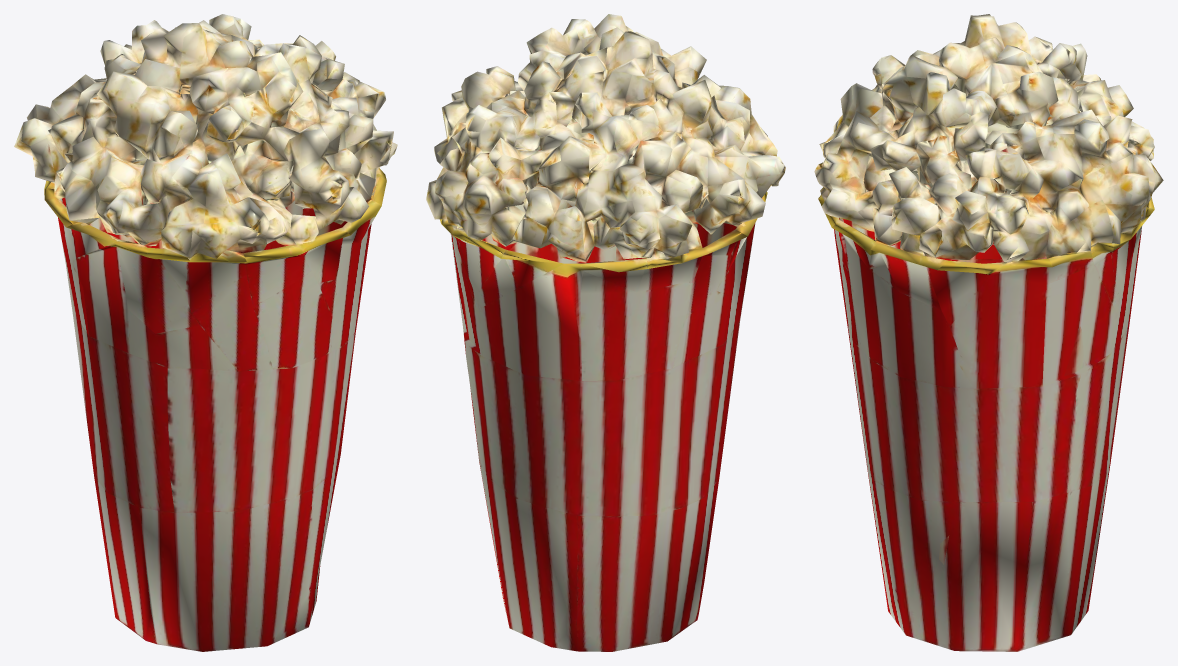
The picture shows the model from 3 angles, left to right: view 1: azimuth 30°, elevation 25°; view 2: azimuth 150°, elevation 25°; view 3: azimuth 270°, elevation 25°; orthographic projection. The views are drawn at different scales.
Size of the model in its own units: 1.07 by 1.9 by 1.03.
Materials: 1 (1 with a texture image).
